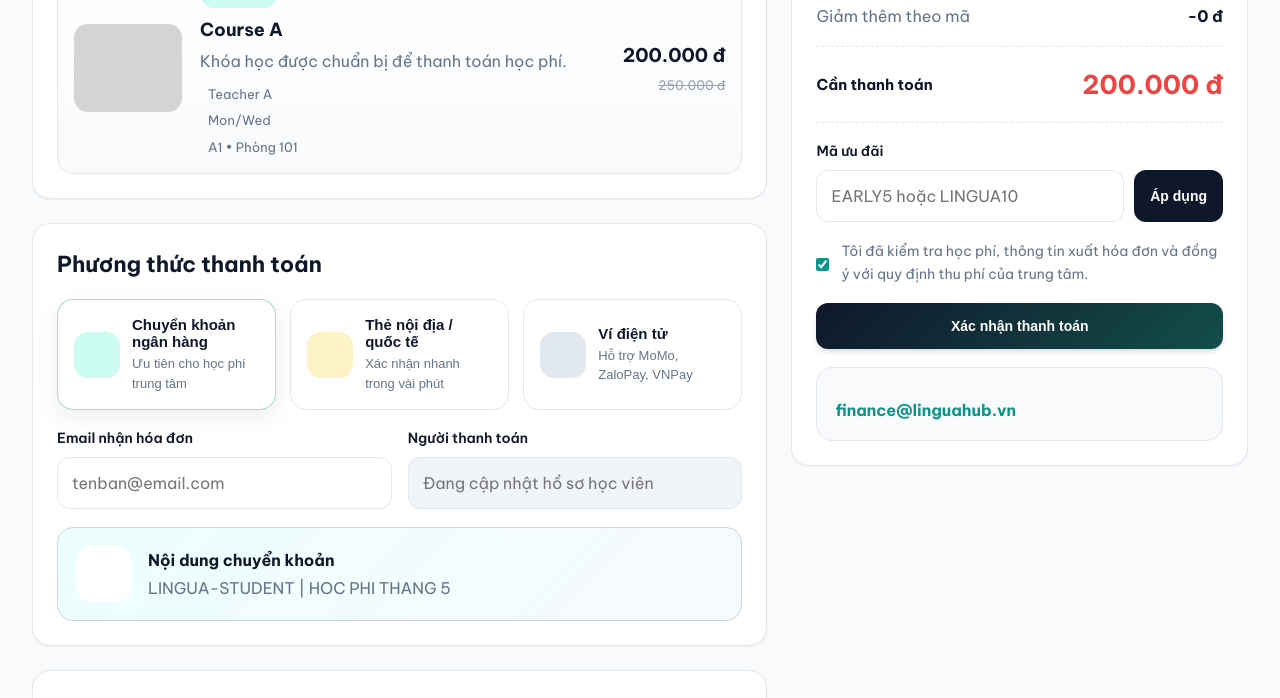
it: PaymentPage › thanh toan thanh cong va xoa gio
This screenshot has width=1280, height=698.
(page scrolled)
Click the button "Ví điện tử Hỗ trợ MoMo, ZaloPay, VNPay" at (633, 355), box [523, 299, 742, 410]
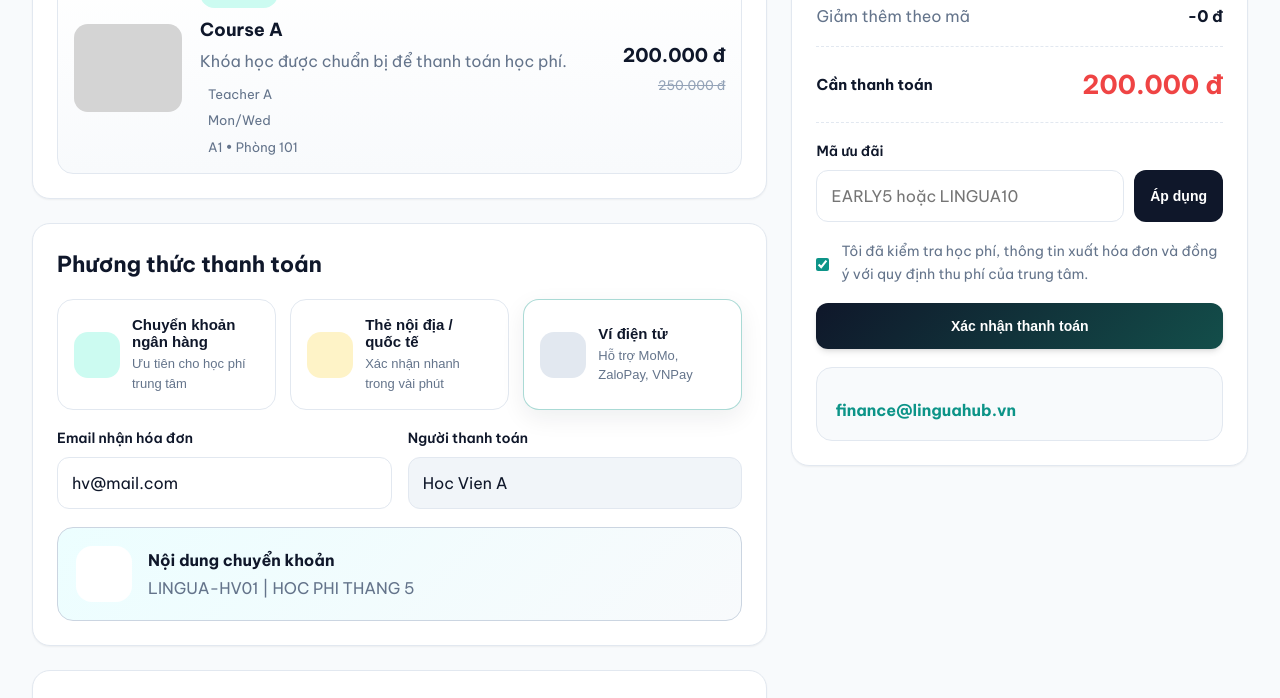
Click the button "Xác nhận thanh toán" at (1020, 326), box [816, 303, 1223, 349]
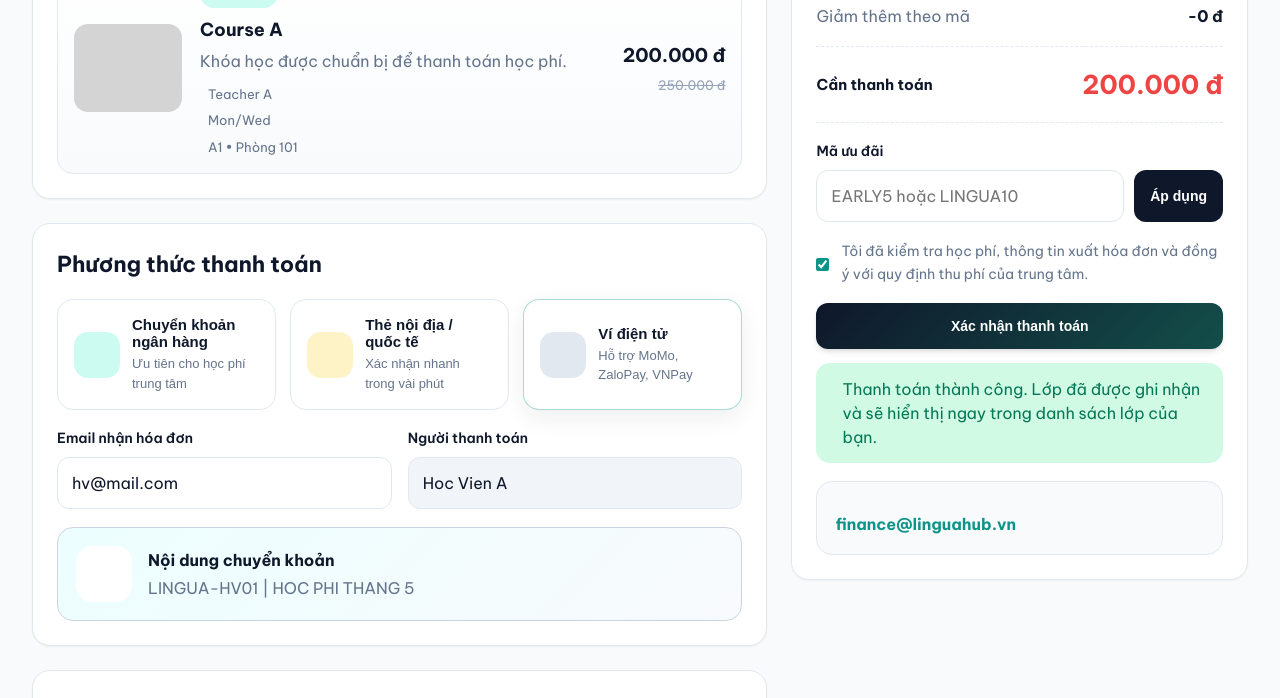
Result: the text "Thanh toán thành công. Lớp đã được ghi nhận" is shown at [842, 379, 1200, 447]
